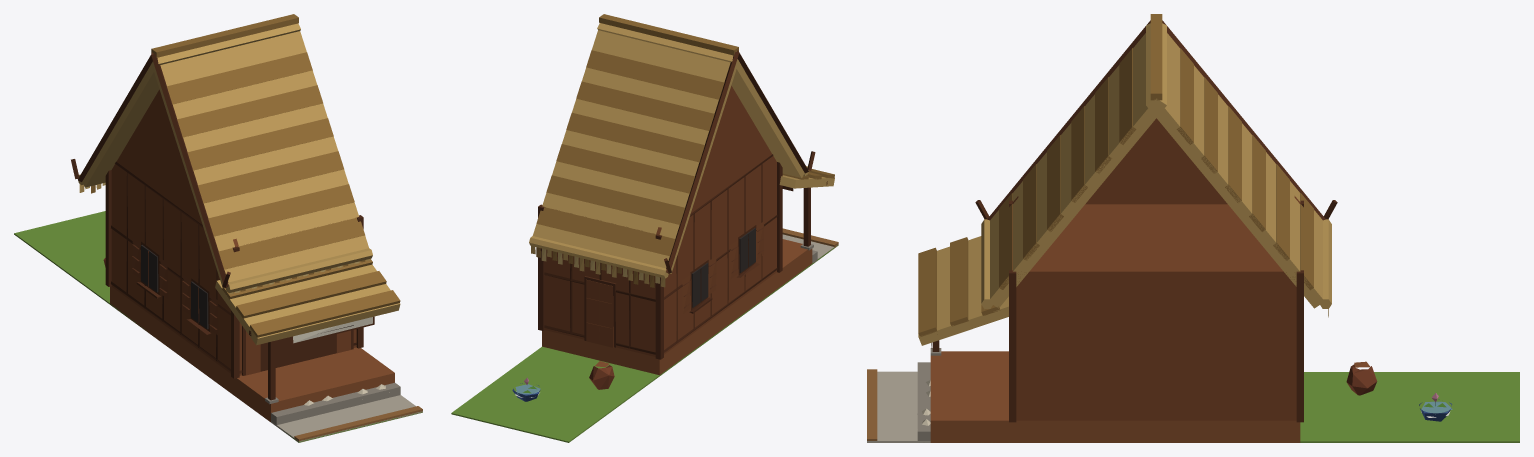
File: bay2_left.glb
The picture shows the model from 3 angles, left to right: view 1: azimuth 30°, elevation 25°; view 2: azimuth 150°, elevation 25°; view 3: azimuth 270°, elevation 25°; orthographic projection. The views are drawn at different scales.
Visible parts, largest first — view 1: body, windows; view 2: body, windows; view 3: body.
Part boxes in pixels (box(x1,y1,x2,y2)): body: box(14, 14, 422, 442); windows: box(141, 245, 208, 329); body: box(451, 14, 838, 442); windows: box(691, 228, 755, 307); body: box(867, 14, 1519, 442).
Bounding box in the file's own units: 4.86 × 9.4 × 15.9.
